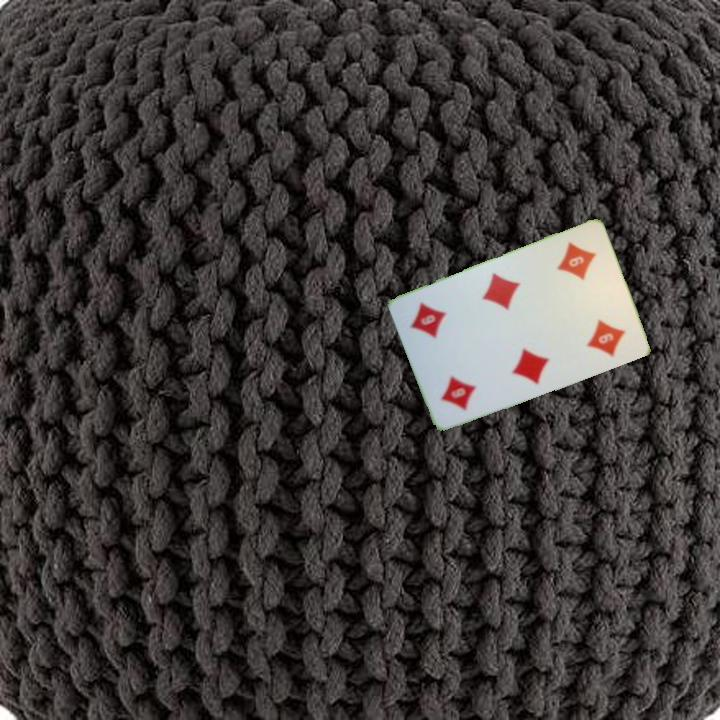d_6.png: (541, 229, 618, 310), (420, 341, 496, 422)
